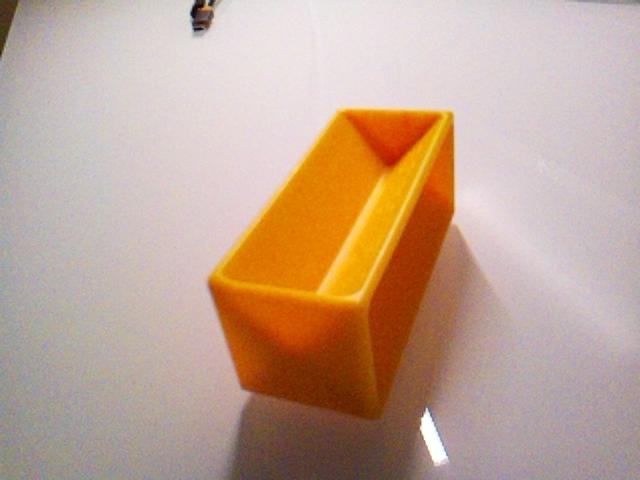yellow: (206, 105, 456, 421)
